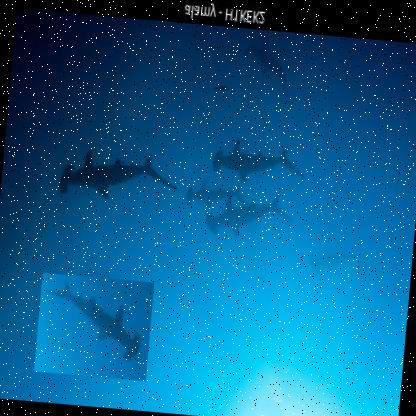hammerhead_Shark: (34, 272, 155, 381), (51, 135, 184, 229), (204, 124, 310, 192)
